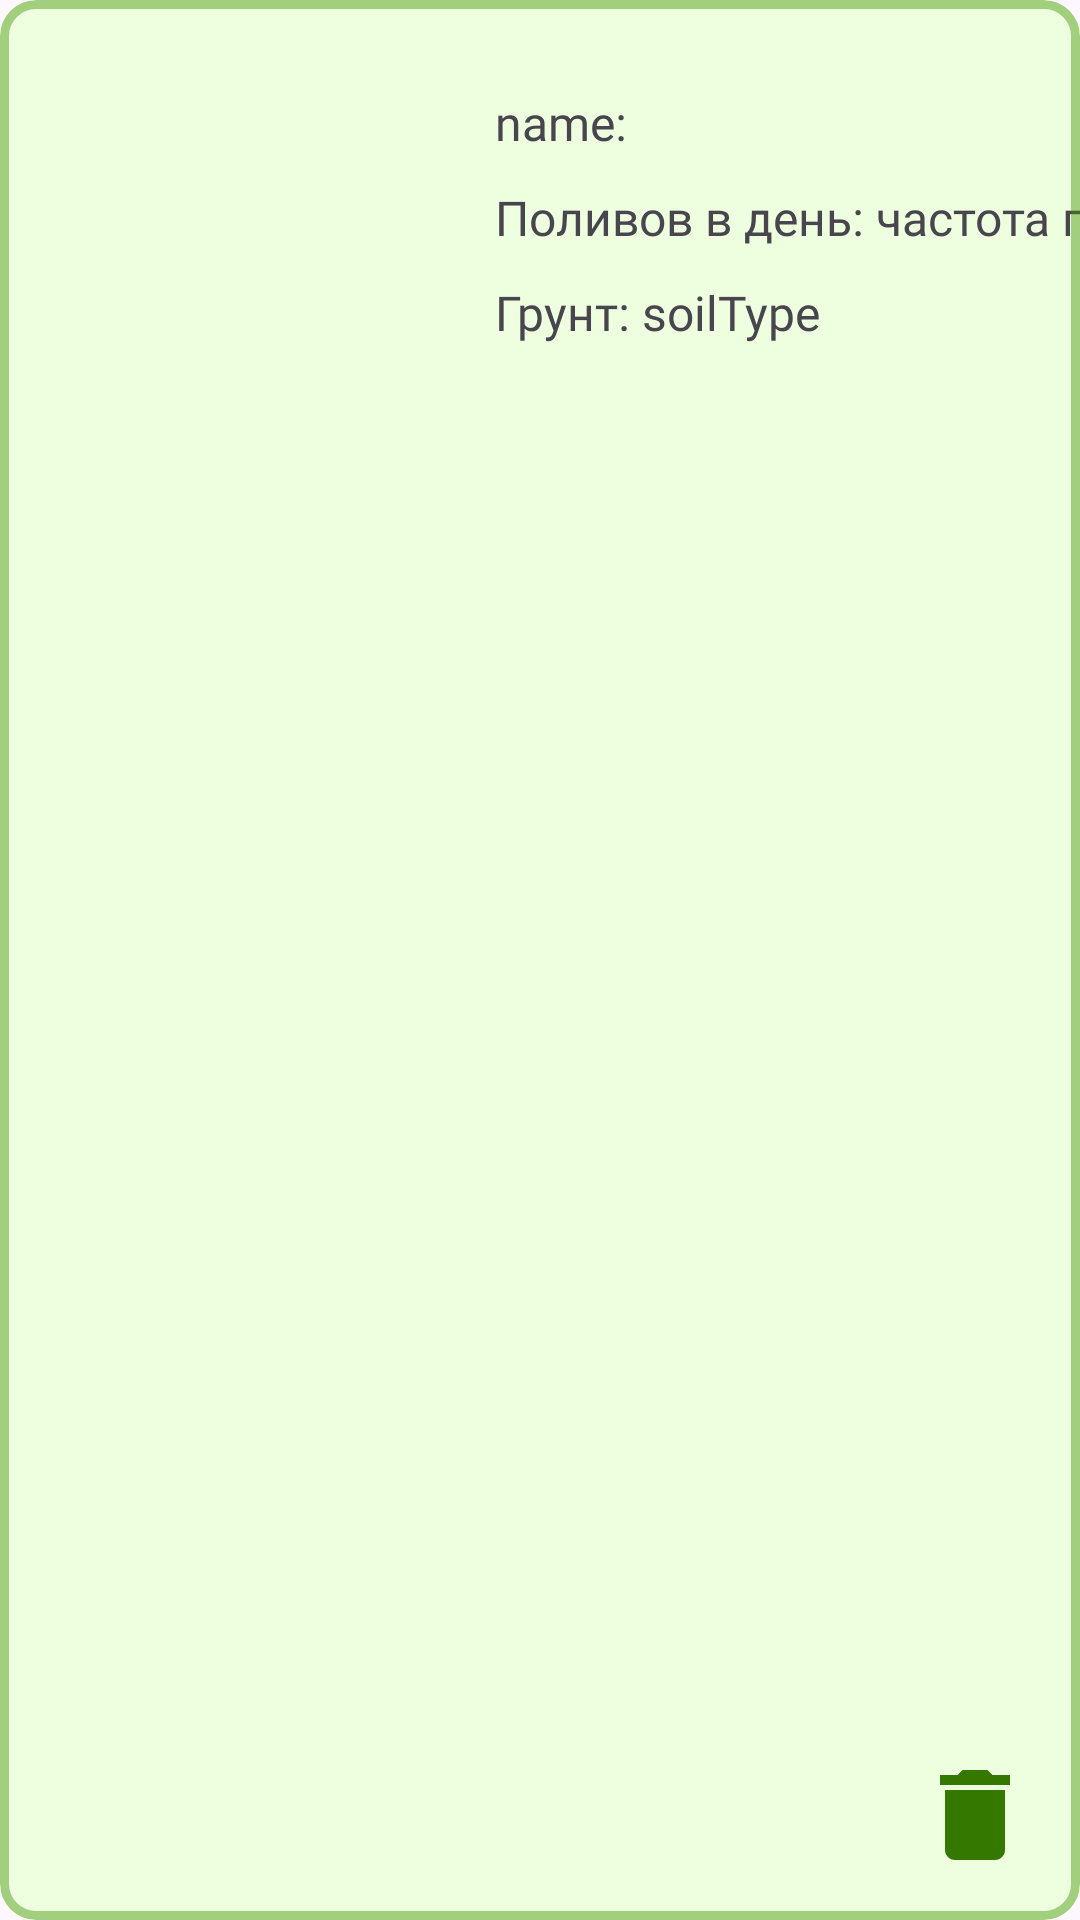

Locate icon controls on the screen. Image size 1080×1920, boxes as (x1, y1, x2, y2).
delete: (940, 1770, 1010, 1860)
